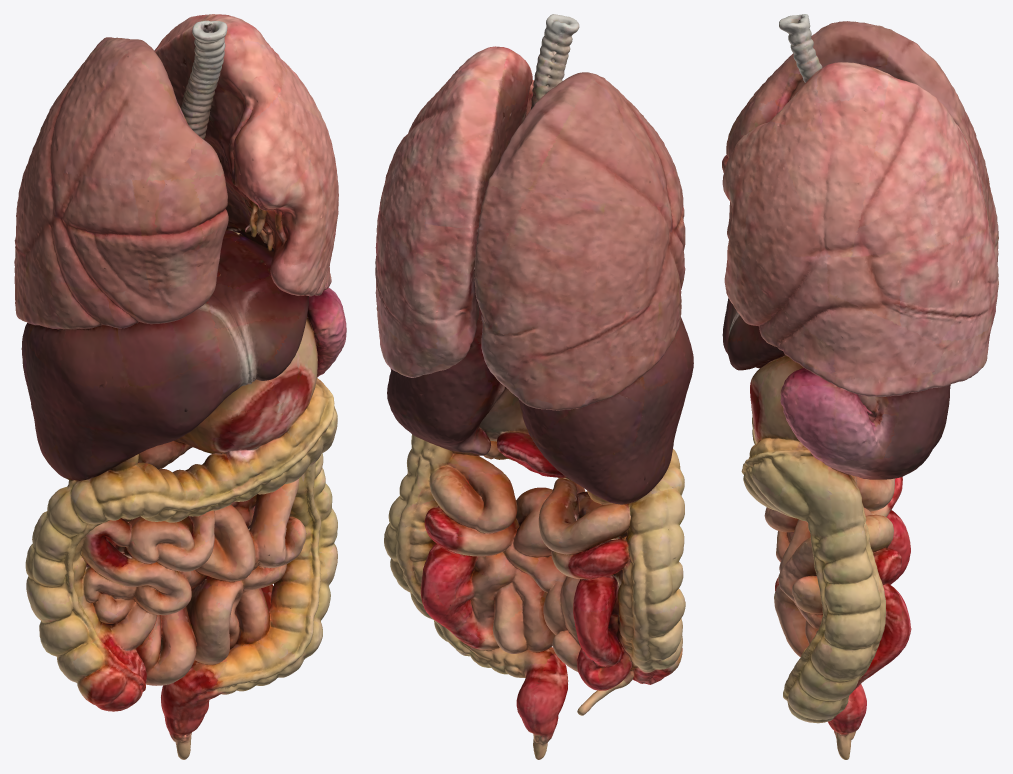
3 views of the same model, side by side, from view 1: azimuth 30°, elevation 25°; view 2: azimuth 150°, elevation 25°; view 3: azimuth 270°, elevation 25° (orthographic). The views are drawn at different scales.
Visible parts, largest first — view 1: mesh_0; view 2: mesh_0; view 3: mesh_0.
Part boxes in pixels (<box>): mesh_0: <box>14,14,346,759</box>; mesh_0: <box>375,14,693,759</box>; mesh_0: <box>722,14,998,759</box>.
Bounding box in the file's own units: 0.8008 × 1.91 × 0.6444.
1 material, 1 textured.
